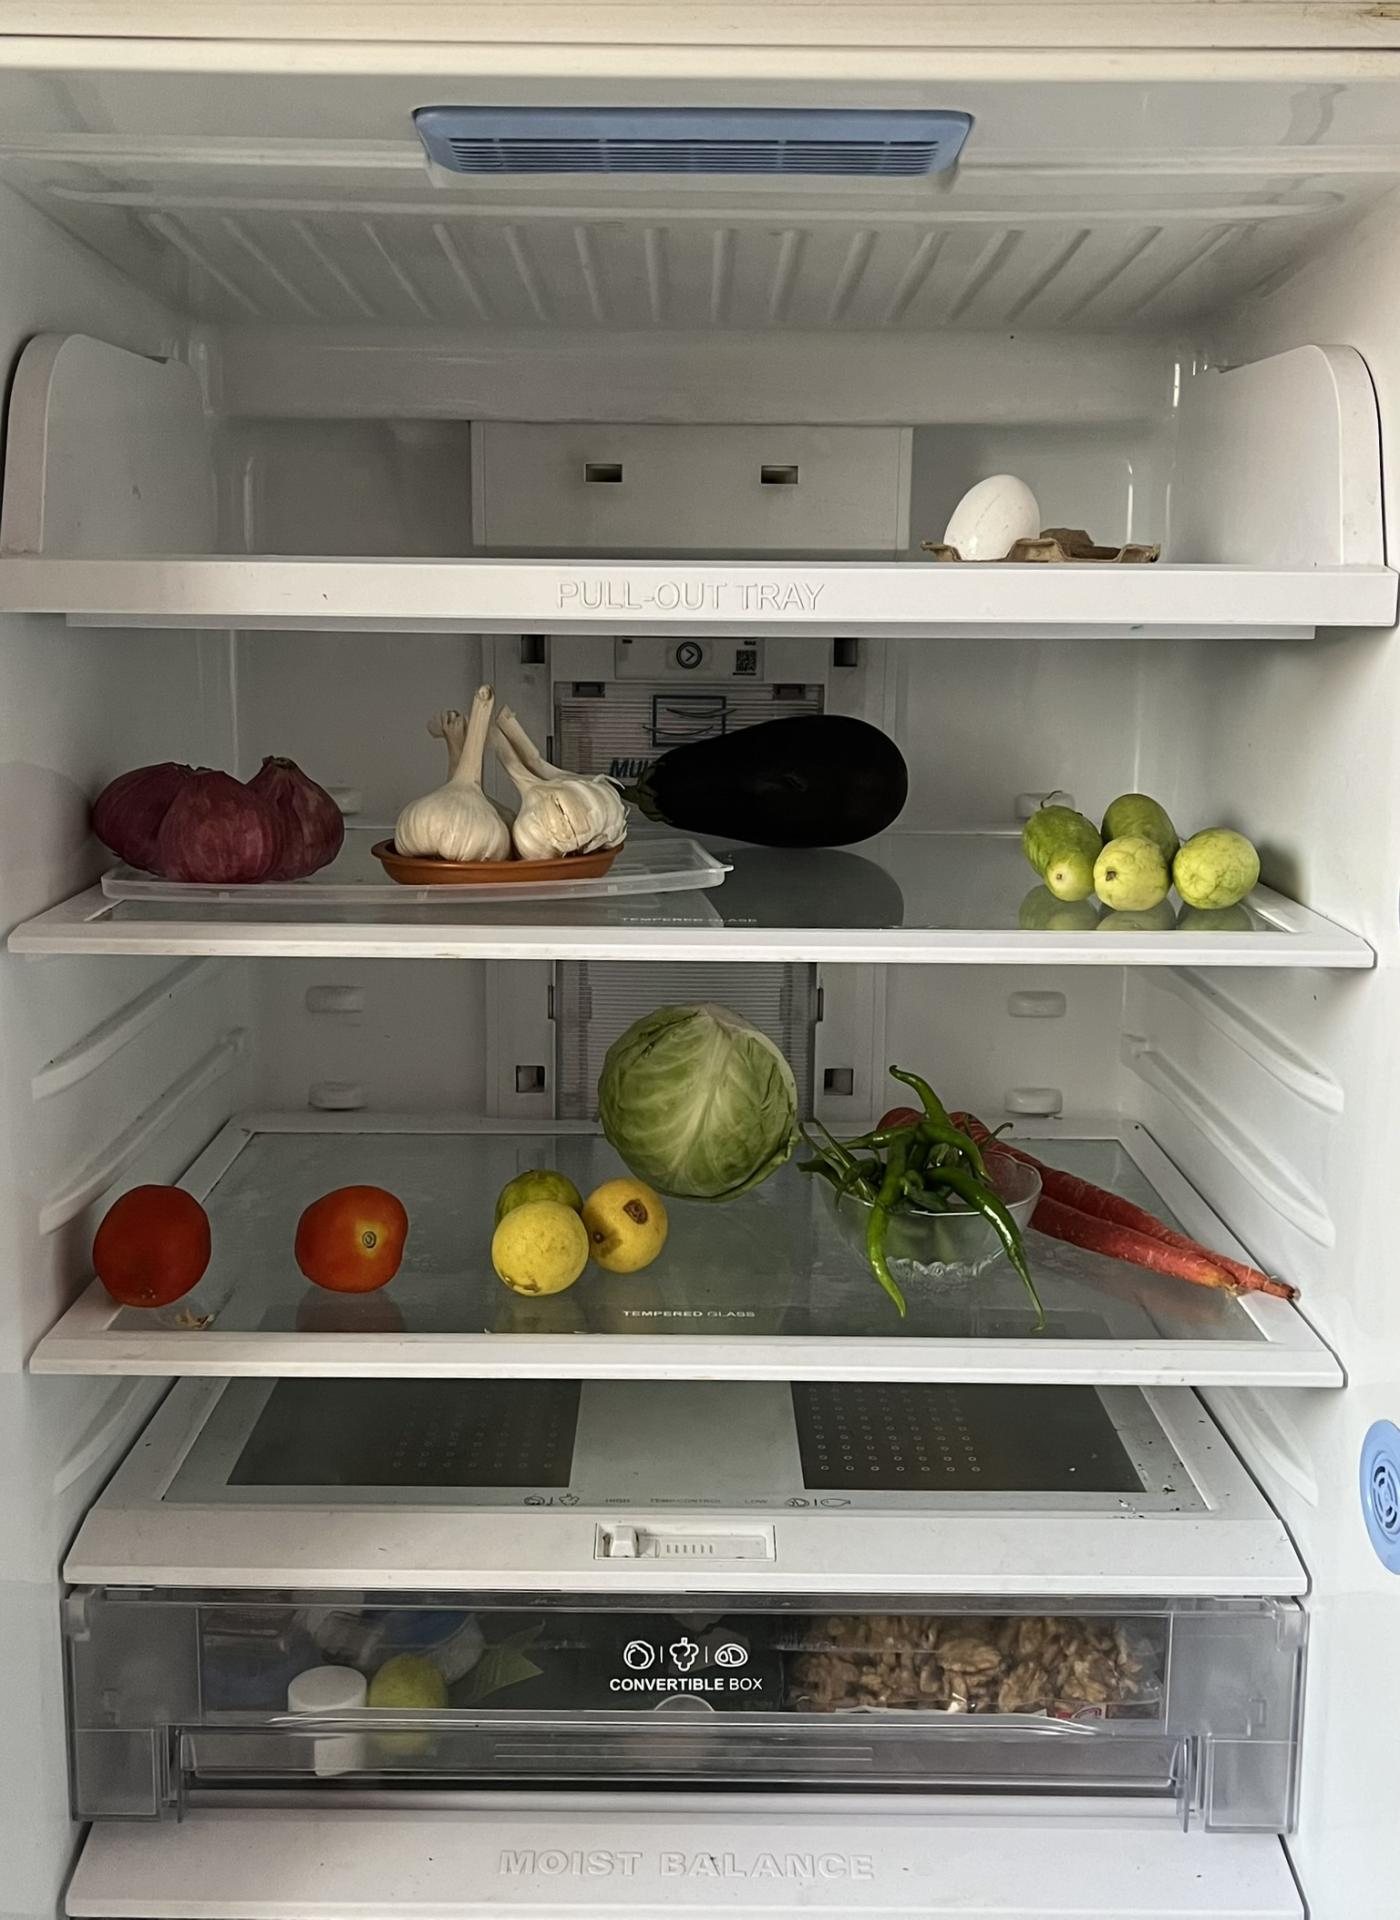brinjal: (595, 708, 915, 841)
cabbage: (596, 1006, 810, 1197)
carrots: (920, 1122, 1290, 1331)
chillies: (841, 1085, 1027, 1328)
cucumber: (1015, 792, 1267, 921)
egg: (924, 465, 1127, 559)
garlic: (392, 678, 622, 868)
lemon: (491, 1152, 678, 1301)
onion: (94, 751, 347, 882)
tomato: (91, 1179, 216, 1313), (291, 1182, 412, 1301)
